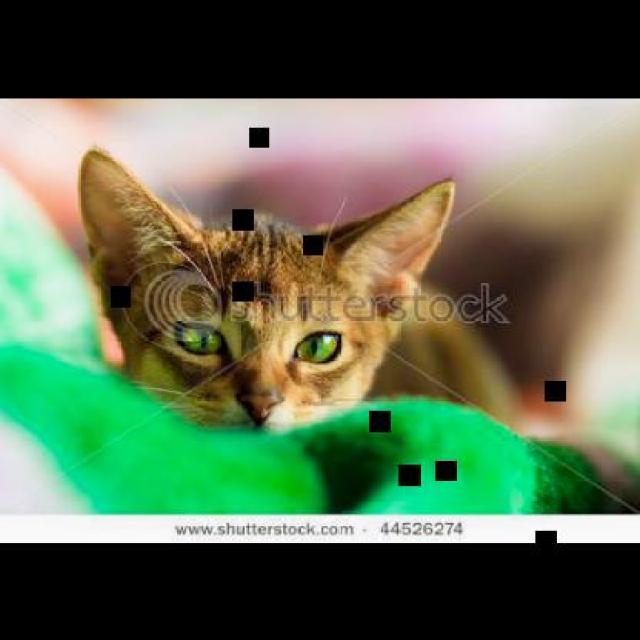unauthorized: (75, 144, 457, 433)
